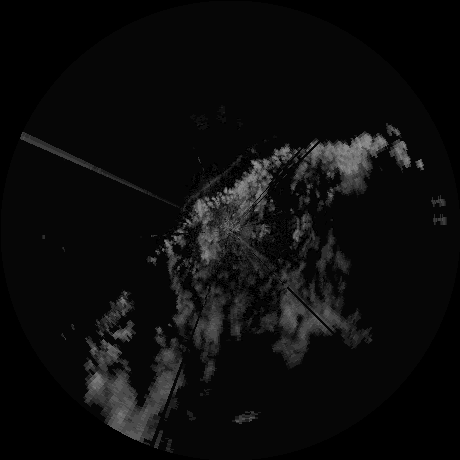frontgust: (183, 156, 242, 210)
